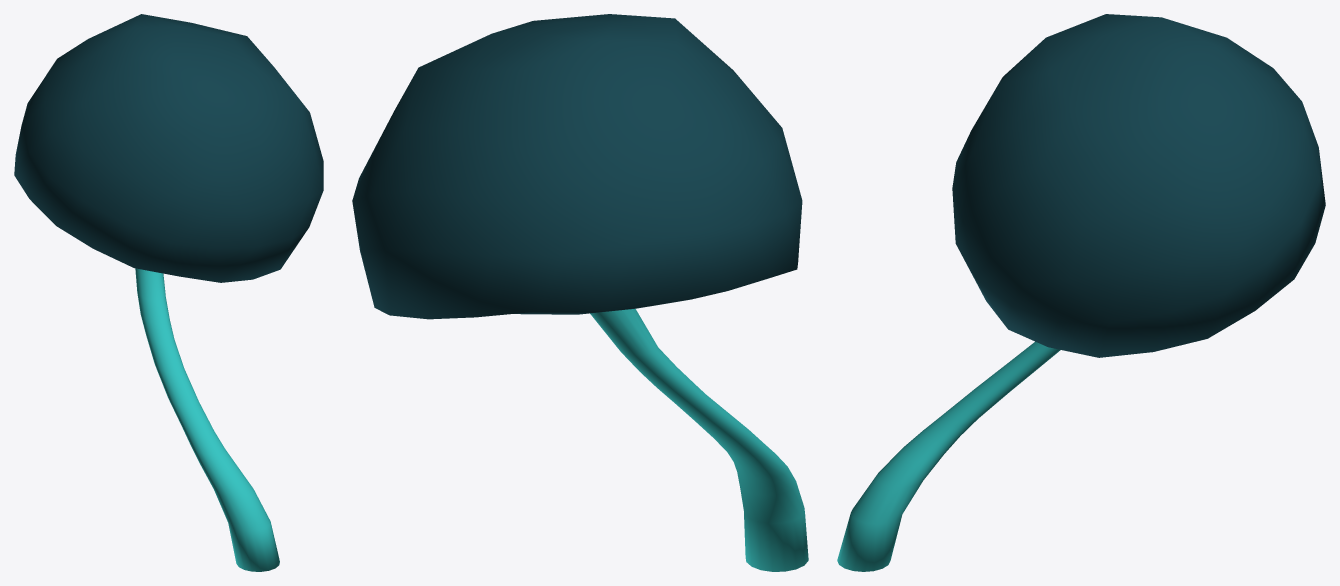
The model's file is mushroom04_001.fbx.
3 views of the same model, side by side, from view 1: azimuth 30°, elevation 25°; view 2: azimuth 150°, elevation 25°; view 3: azimuth 270°, elevation 25° (orthographic). The views are drawn at different scales.
Parts seen in each view (by area): view 1: Icosphere.002; view 2: Icosphere.002; view 3: Icosphere.002.
Boxes of the visible parts, x1,y1,x2,y2 form: Icosphere.002: (14,14,323,571); Icosphere.002: (352,14,808,571); Icosphere.002: (837,14,1325,571).
Size of the model in its own units: 169 by 266 by 217.
